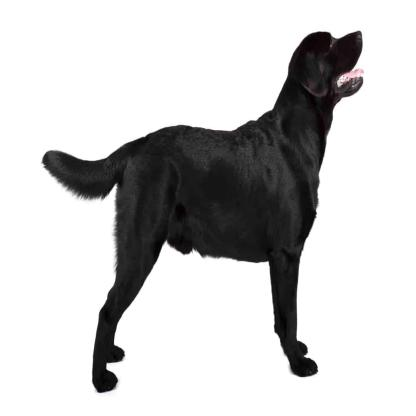Labarador Retriever: (42, 18, 365, 393)
